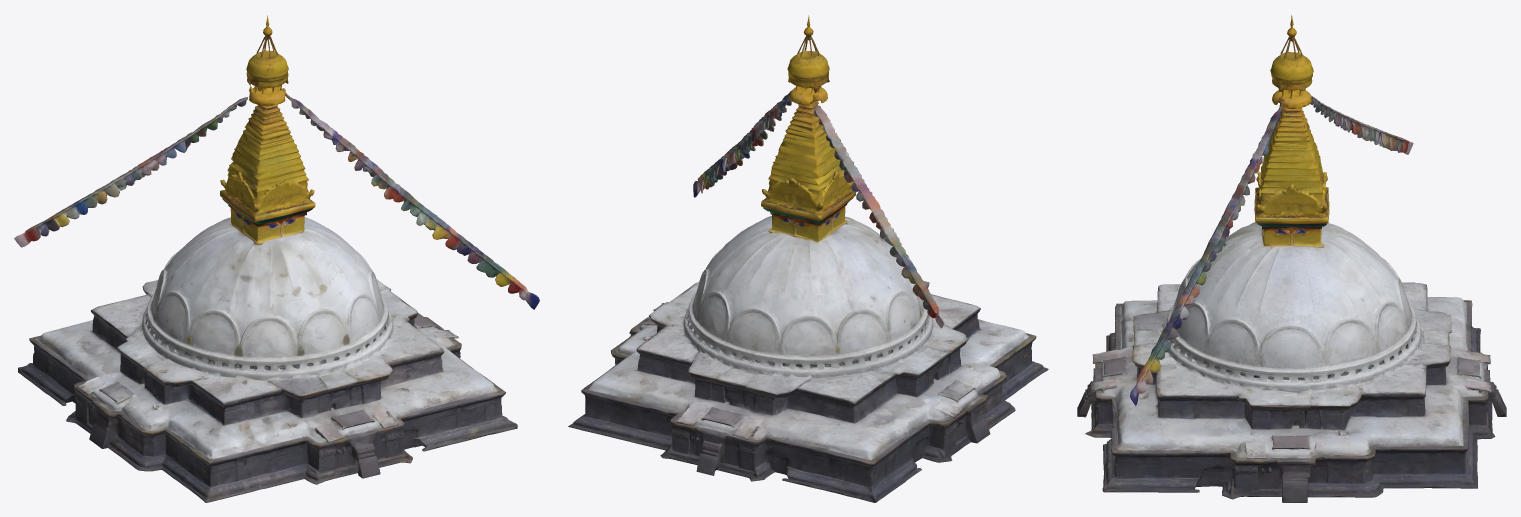
Rendered from stupa.glb.
3 views of the same model, side by side, from view 1: azimuth 30°, elevation 25°; view 2: azimuth 150°, elevation 25°; view 3: azimuth 270°, elevation 25° (orthographic). The views are drawn at different scales.
Parts seen in each view (by area): view 1: tripo_node_67c2068b-4cb8-4b0c-88e5-4ec9952f1020; view 2: tripo_node_67c2068b-4cb8-4b0c-88e5-4ec9952f1020; view 3: tripo_node_67c2068b-4cb8-4b0c-88e5-4ec9952f1020.
Part boxes in pixels (x1=…): tripo_node_67c2068b-4cb8-4b0c-88e5-4ec9952f1020: x1=14, y1=15, x2=539, y2=502; tripo_node_67c2068b-4cb8-4b0c-88e5-4ec9952f1020: x1=568, y1=15, x2=1048, y2=502; tripo_node_67c2068b-4cb8-4b0c-88e5-4ec9952f1020: x1=1077, y1=15, x2=1506, y2=502.
Size of the model in its own units: 1 by 0.9495 by 0.9269.
Materials: 1 (1 with a texture image).
